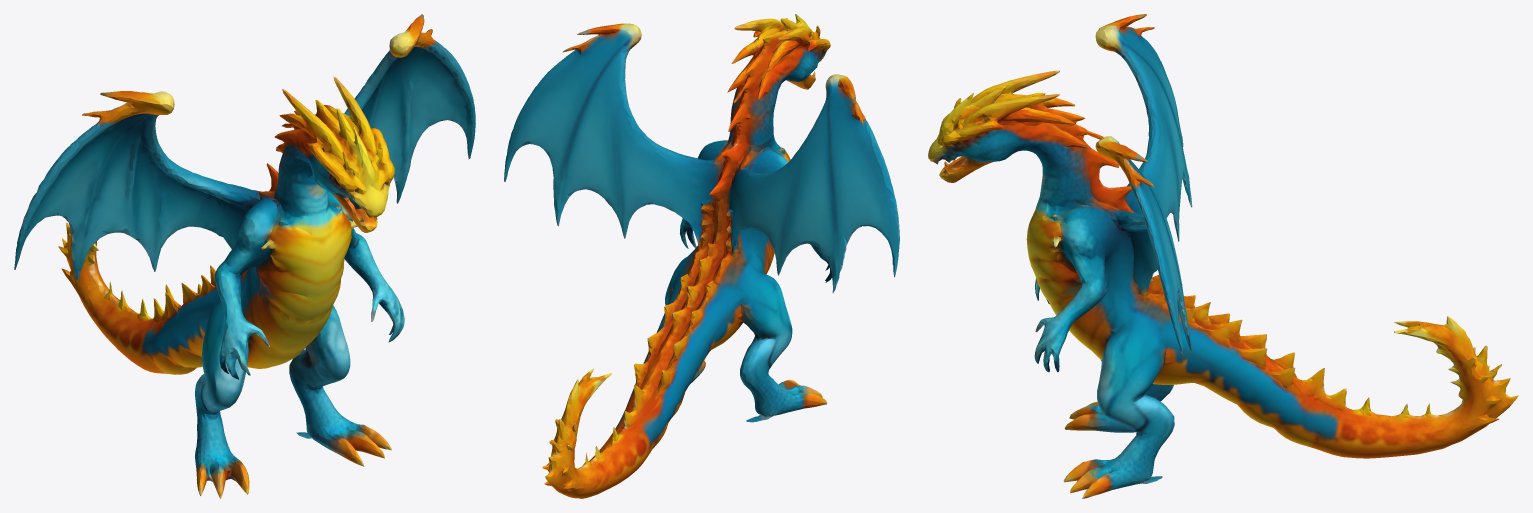
File: Teen.glb
The picture shows the model from 3 angles, left to right: view 1: azimuth 30°, elevation 25°; view 2: azimuth 150°, elevation 25°; view 3: azimuth 270°, elevation 25°; orthographic projection. The views are drawn at different scales.
Visible parts, largest first — view 1: Companion_Teen; view 2: Companion_Teen; view 3: Companion_Teen.
Boxes of the visible parts, x1,y1,x2,y2 form: Companion_Teen: [14, 14, 475, 498]; Companion_Teen: [504, 14, 899, 498]; Companion_Teen: [928, 14, 1518, 498].
Bounding box in the file's own units: 1.58 × 1.33 × 1.89.
1 material, 1 textured.
